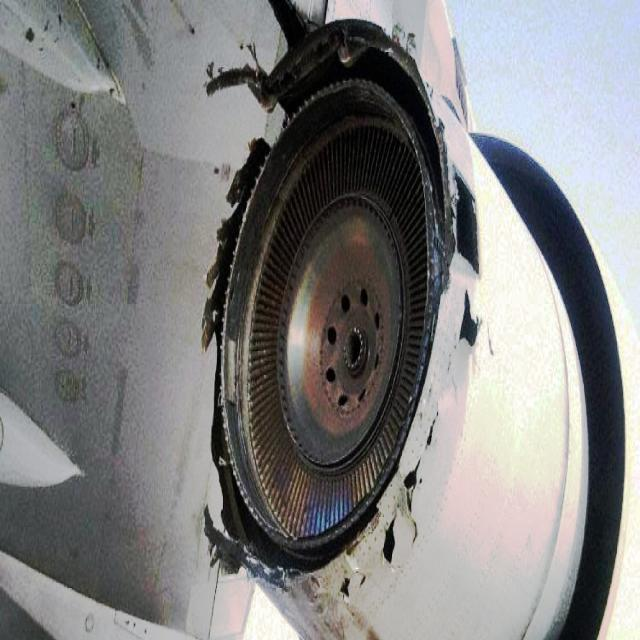crack: (334, 298, 488, 605)
